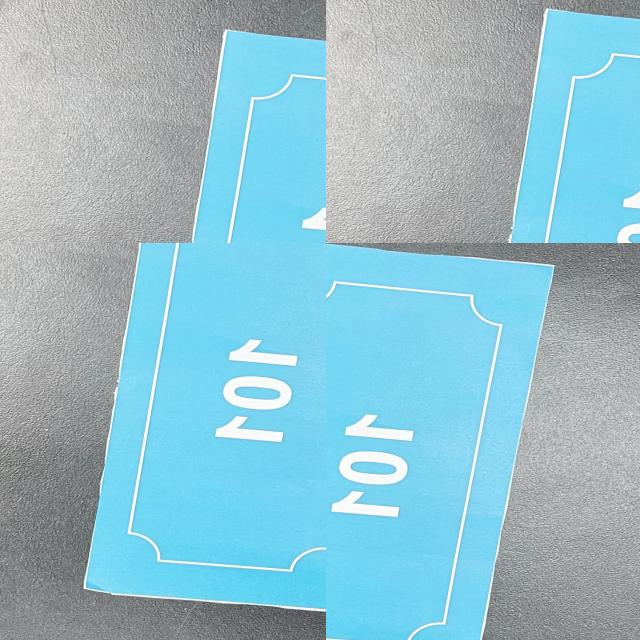Card: (326, 243, 572, 640), (326, 0, 640, 243), (0, 243, 141, 295), (96, 0, 293, 13)
